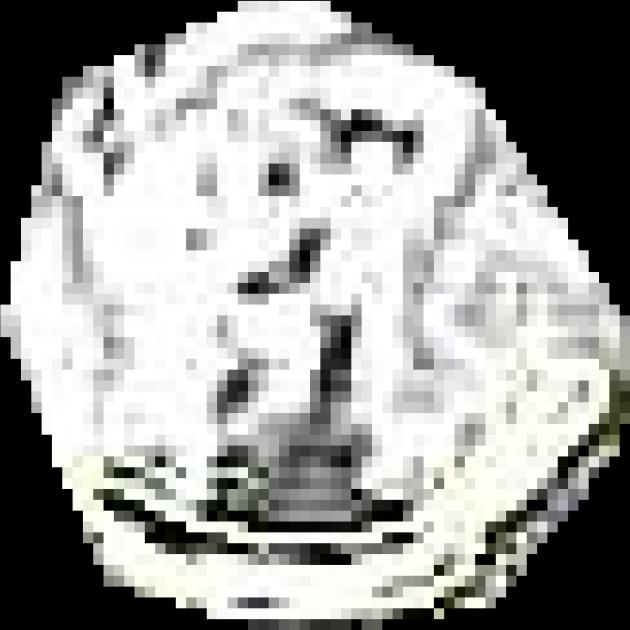tumor_good_chance: (0, 1, 630, 630)
